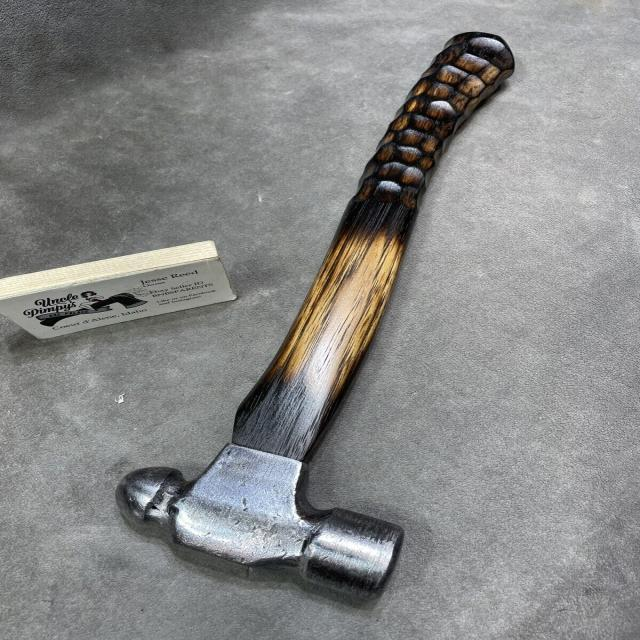hammer: (111, 21, 526, 614)
